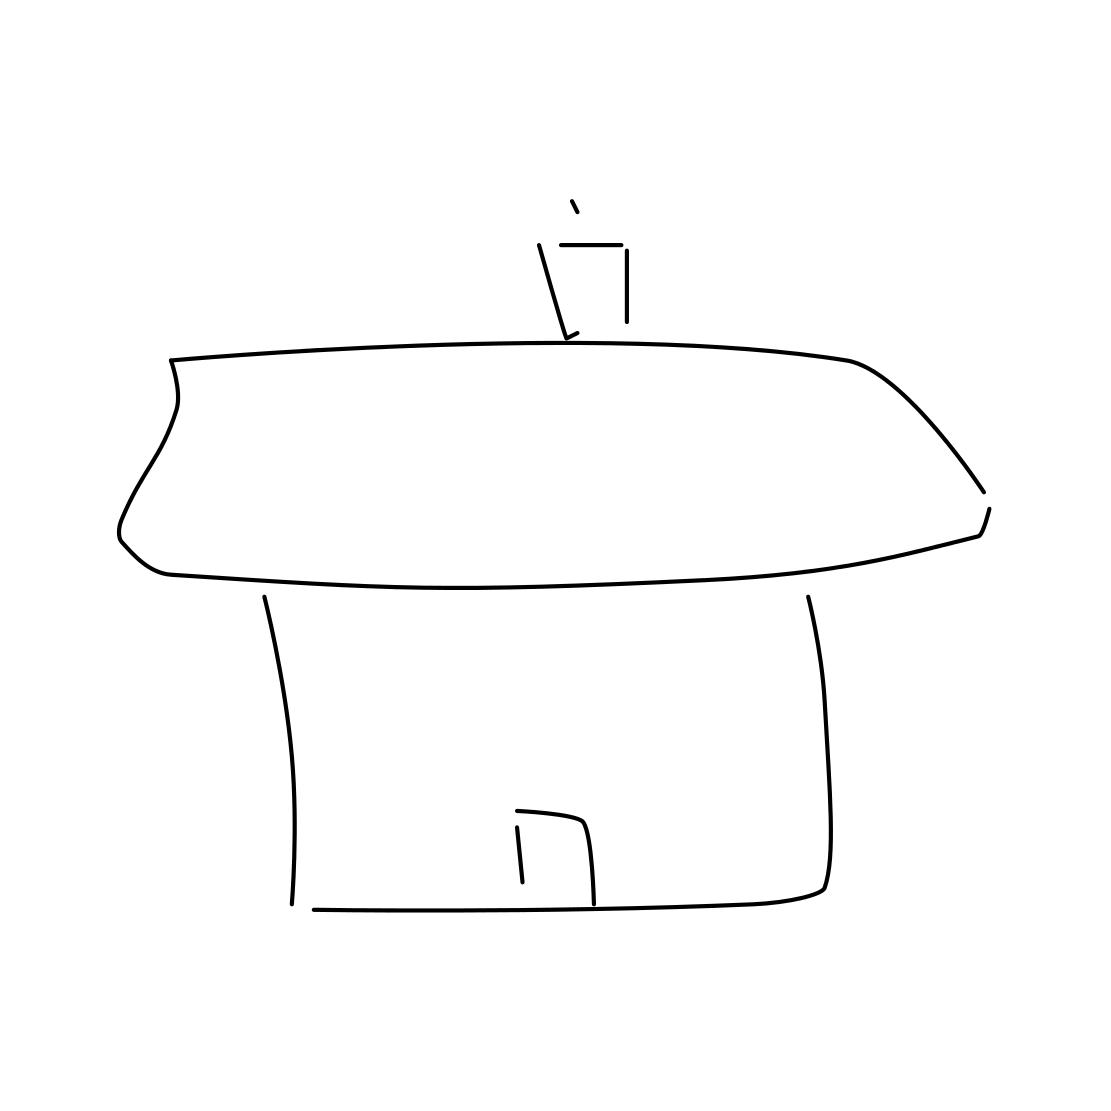House: (66, 206, 1002, 963)
